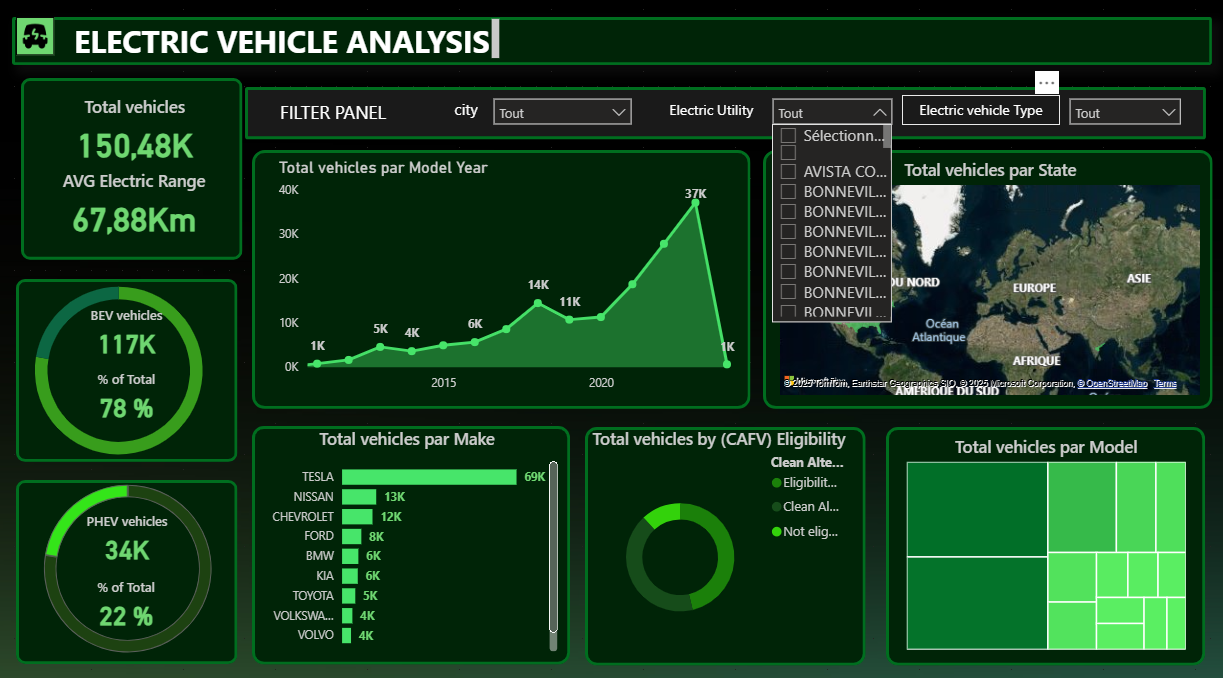

Layout of this report page (visuals, bound fields, positions):
{"tool":"powerbi","page":{"name":"Page 1","canvas":[1280,720],"ordinal":0},"visuals":[{"type":"shape","box":[13.9,23.7,1252.2,50.1],"z":0},{"type":"textbox","box":[73.5,21.3,453.9,52.1],"z":1000},{"type":"shape","box":[22.5,87.7,231.1,189.6],"z":2000},{"type":"card","title":"Total vehicles","fields":{"Values":["Electric_Vehicle_Population_Data.Total vehicles"]},"box":[47.3,105.7,189.2,76.5],"z":3000},{"type":"card","title":"AVG Electric Range","fields":{"Values":["Electric_Vehicle_Population_Data.AVG Range"]},"box":[39,182.3,204.5,76.5],"z":4000},{"type":"shape","box":[17.8,297.5,231.1,190.8],"z":5000},{"type":"shape","box":[17.8,507.3,231.1,192],"z":6000},{"type":"donutChart","fields":{"Category":["Electric_Vehicle_Population_Data.Electric Vehicle Type"],"Y":["Electric_Vehicle_Population_Data.Total vehicles"]},"box":[4.7,278.5,239.4,228.7],"z":7000},{"type":"card","title":"BEV vehicles","fields":{"Values":["Electric_Vehicle_Population_Data.BEV Vehicles"]},"box":[73.5,327.1,119.7,58.1],"z":8000},{"type":"card","title":"% of Total","fields":{"Values":["Electric_Vehicle_Population_Data.% of BEV"]},"box":[73.5,393.5,119.7,58.1],"z":9000},{"type":"donutChart","fields":{"Category":["Electric_Vehicle_Population_Data.Electric Vehicle Type"],"Y":["Electric_Vehicle_Population_Data.Total vehicles"]},"box":[14.2,484.7,239.4,228.7],"z":10000},{"type":"card","title":"PHEV vehicles","fields":{"Values":["Electric_Vehicle_Population_Data.PHEV Vehicles"]},"box":[64,541.6,139.9,58.1],"z":11000},{"type":"card","title":"% of Total","fields":{"Values":["Electric_Vehicle_Population_Data.% of PHEV"]},"box":[62.8,610.4,139.9,58.1],"z":12000},{"type":"shape","box":[257.2,97.2,1002.7,54.5],"z":13000},{"type":"shape","box":[264.3,162.4,520.3,270.2],"z":14000},{"type":"areaChart","fields":{"Category":["Electric_Vehicle_Population_Data.Model Year"],"Y":["Electric_Vehicle_Population_Data.Total vehicles"]},"box":[286.8,170.7,490.7,252.4],"z":15000},{"type":"shape","box":[797.6,162.4,469.3,270.2],"z":16000},{"type":"filledMap","fields":{"Category":["Electric_Vehicle_Population_Data.State"]},"box":[809.5,170.7,449.2,252.4],"z":17000},{"type":"shape","box":[264.3,450.4,331.9,248.9],"z":18000},{"type":"barChart","fields":{"Category":["Electric_Vehicle_Population_Data.Make"],"Y":["Electric_Vehicle_Population_Data.Total vehicles"]},"box":[264.3,451.6,323.6,239.4],"z":19000},{"type":"shape","box":[611.6,451.6,292.7,248.9],"z":20000},{"type":"donutChart","title":"Total vehicles by (CAFV) Eligibility","fields":{"Category":["Electric_Vehicle_Population_Data.Clean Alternative Fuel Vehicle (CAFV) Eligibility"],"Y":["Electric_Vehicle_Population_Data.Total vehicles"]},"box":[611.6,451.6,279.7,248.9],"z":21000},{"type":"shape","box":[925.6,451.6,333,248.9],"z":21001},{"type":"treemap","fields":{"Group":["Electric_Vehicle_Population_Data.Model"],"Values":["Electric_Vehicle_Population_Data.Total vehicles"]},"box":[942.2,459.9,301,228.7],"z":21002},{"type":"textbox","box":[286.8,105.5,123.3,35.6],"z":21003},{"type":"slicer","fields":{"Values":["Electric_Vehicle_Population_Data.City"]},"box":[506.1,99.6,163.6,47.4],"z":21004},{"type":"textbox","box":[463.4,104.3,48.6,36.7],"z":21005},{"type":"textbox","box":[688.6,105.5,109,30.8],"z":21006},{"type":"slicer","fields":{"Values":["Electric_Vehicle_Population_Data.Electric Utility"]},"box":[797.6,99.6,144.6,47.4],"z":21007},{"type":"slicer","fields":{"Values":["Electric_Vehicle_Population_Data.Electric Vehicle Type"]},"box":[1107,99.6,136.3,47.4],"z":21008},{"type":"textbox","box":[942.2,105.5,164.7,30.8],"z":21009},{"type":"image","box":[17.8,23.7,40,40],"z":21010}]}

Visuals, with their boxes in screenshot pixels (x1, y1, x2, y2), scaled from the page's 1280x720 canvas onto the 1223x678 screenshot:
shape: crop(13, 22, 1210, 69)
textbox: crop(70, 20, 504, 69)
shape: crop(21, 83, 242, 261)
"Total vehicles" card: crop(45, 100, 226, 172)
"AVG Electric Range" card: crop(37, 172, 233, 244)
shape: crop(17, 280, 238, 460)
shape: crop(17, 478, 238, 659)
donutChart - Electric_Vehicle_Population_Data.Electric Vehicle Type x Electric_Vehicle_Population_Data.Total vehicles: crop(4, 262, 233, 478)
"BEV vehicles" card: crop(70, 308, 185, 363)
"% of Total" card: crop(70, 371, 185, 425)
donutChart - Electric_Vehicle_Population_Data.Electric Vehicle Type x Electric_Vehicle_Population_Data.Total vehicles: crop(14, 456, 242, 672)
"PHEV vehicles" card: crop(61, 510, 195, 565)
"% of Total" card: crop(60, 575, 194, 630)
shape: crop(246, 92, 1204, 143)
shape: crop(253, 153, 750, 407)
areaChart - Electric_Vehicle_Population_Data.Model Year x Electric_Vehicle_Population_Data.Total vehicles: crop(274, 161, 743, 398)
shape: crop(762, 153, 1210, 407)
filledMap - Electric_Vehicle_Population_Data.State: crop(773, 161, 1203, 398)
shape: crop(253, 424, 570, 659)
barChart - Electric_Vehicle_Population_Data.Make x Electric_Vehicle_Population_Data.Total vehicles: crop(253, 425, 562, 651)
shape: crop(584, 425, 864, 660)
"Total vehicles by (CAFV) Eligibility" donutChart: crop(584, 425, 852, 660)
shape: crop(884, 425, 1203, 660)
treemap - Electric_Vehicle_Population_Data.Model x Electric_Vehicle_Population_Data.Total vehicles: crop(900, 433, 1188, 648)
textbox: crop(274, 99, 392, 133)
slicer - Electric_Vehicle_Population_Data.City: crop(484, 94, 640, 138)
textbox: crop(443, 98, 489, 133)
textbox: crop(658, 99, 762, 128)
slicer - Electric_Vehicle_Population_Data.Electric Utility: crop(762, 94, 900, 138)
slicer - Electric_Vehicle_Population_Data.Electric Vehicle Type: crop(1058, 94, 1188, 138)
textbox: crop(900, 99, 1058, 128)
image: crop(17, 22, 55, 60)
